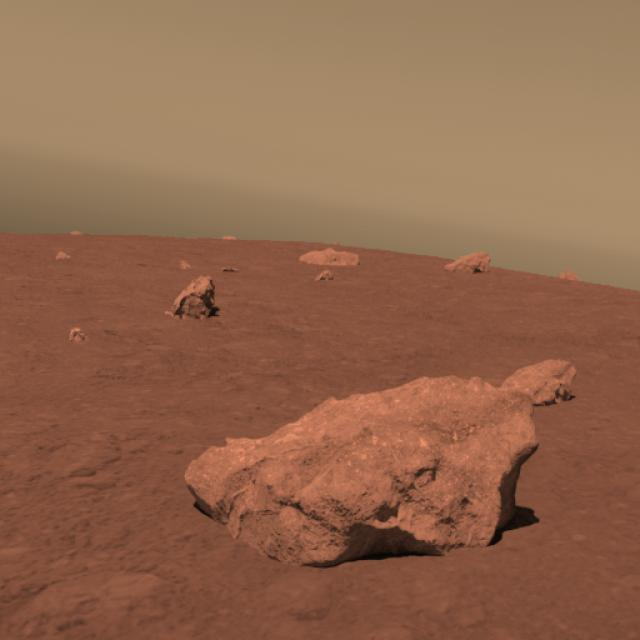rock: (174, 374, 548, 560), (504, 347, 588, 413), (164, 266, 224, 324)
